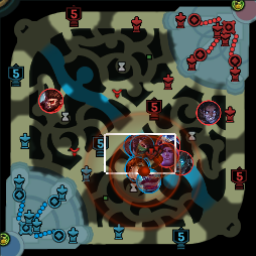akali: (128, 133, 155, 158)
braum: (137, 169, 161, 194)
kalista: (167, 149, 192, 174)
missfortune: (124, 157, 150, 181)
monkeyking: (37, 88, 62, 112)
sylas: (196, 100, 221, 124)
talon: (157, 134, 181, 158)
taric: (154, 144, 176, 169)
